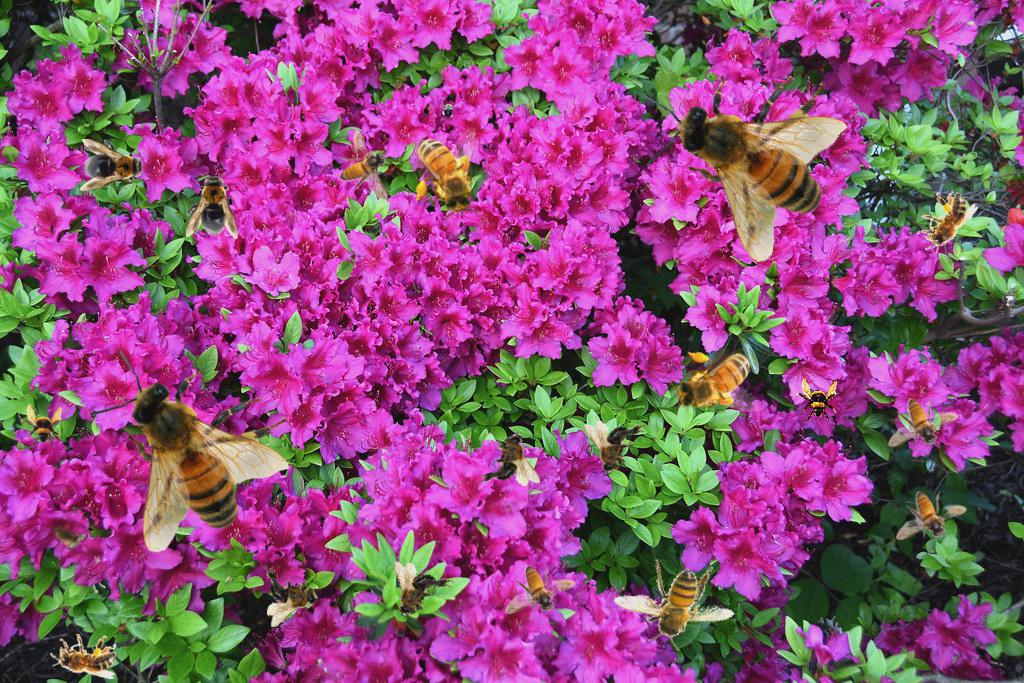Bee: (616, 19, 885, 291), (90, 349, 289, 553), (604, 540, 741, 666), (412, 126, 480, 219), (670, 348, 763, 416), (908, 182, 980, 263), (379, 558, 456, 628), (261, 560, 322, 628), (339, 130, 389, 201), (896, 491, 967, 541), (888, 398, 959, 448), (505, 565, 576, 615), (80, 139, 148, 191), (186, 171, 238, 239), (584, 421, 646, 474), (478, 433, 540, 486), (50, 634, 116, 679), (795, 378, 839, 422), (20, 404, 64, 448), (44, 515, 90, 555)
